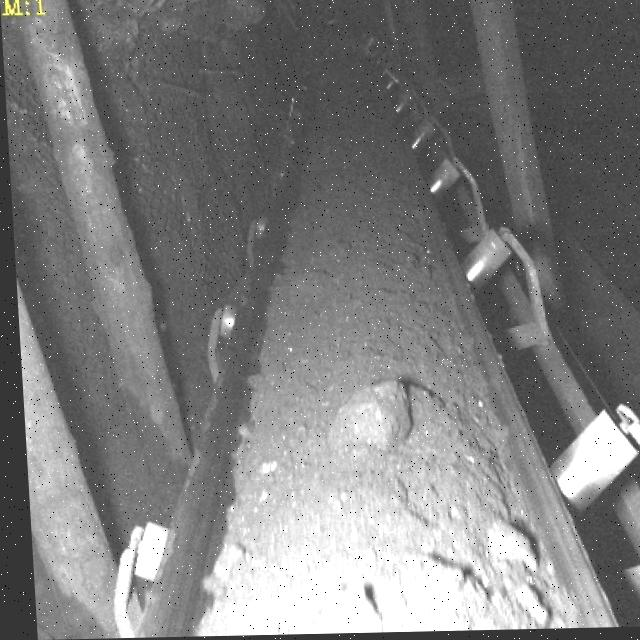large_sized_coal: (317, 376, 411, 455), (484, 522, 534, 571)
